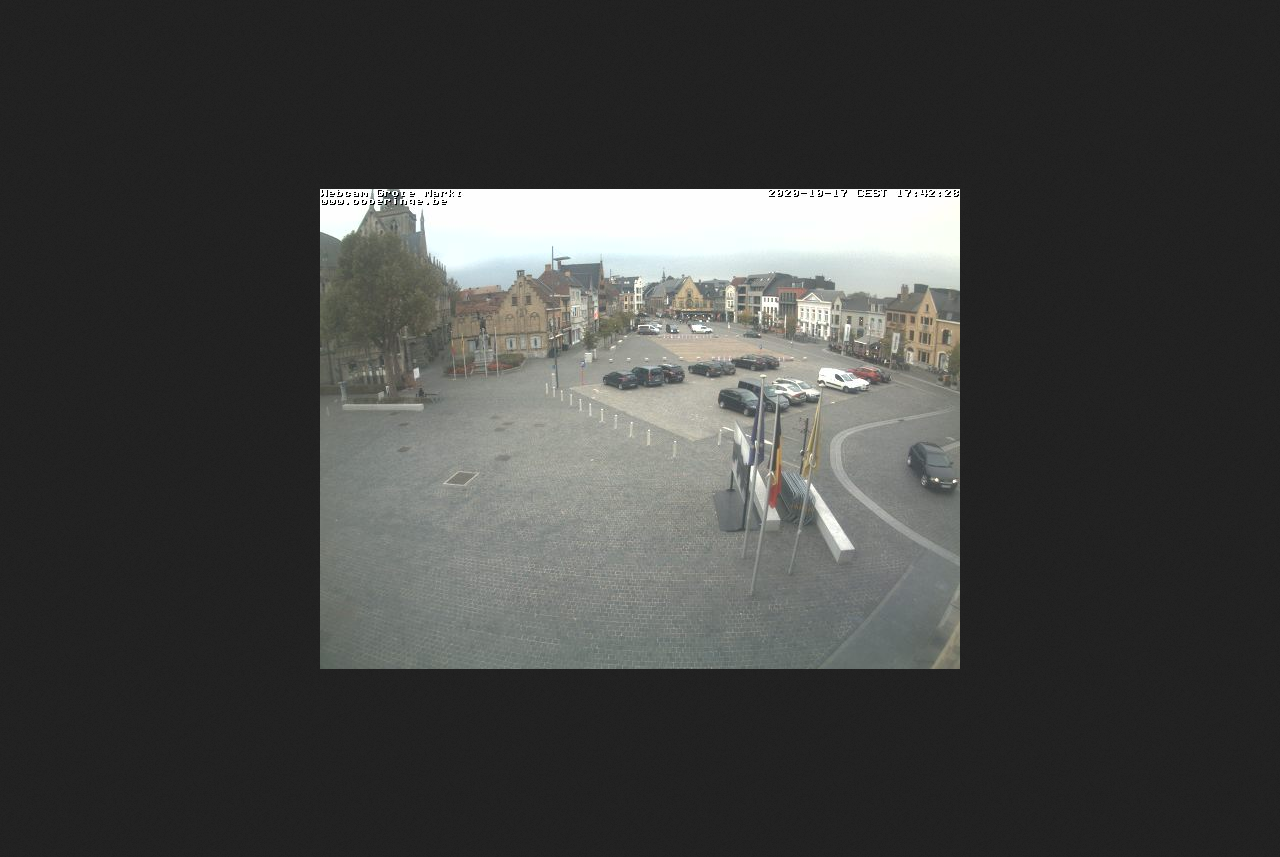no: (801, 389, 827, 486), (747, 380, 767, 476), (768, 391, 787, 486)
